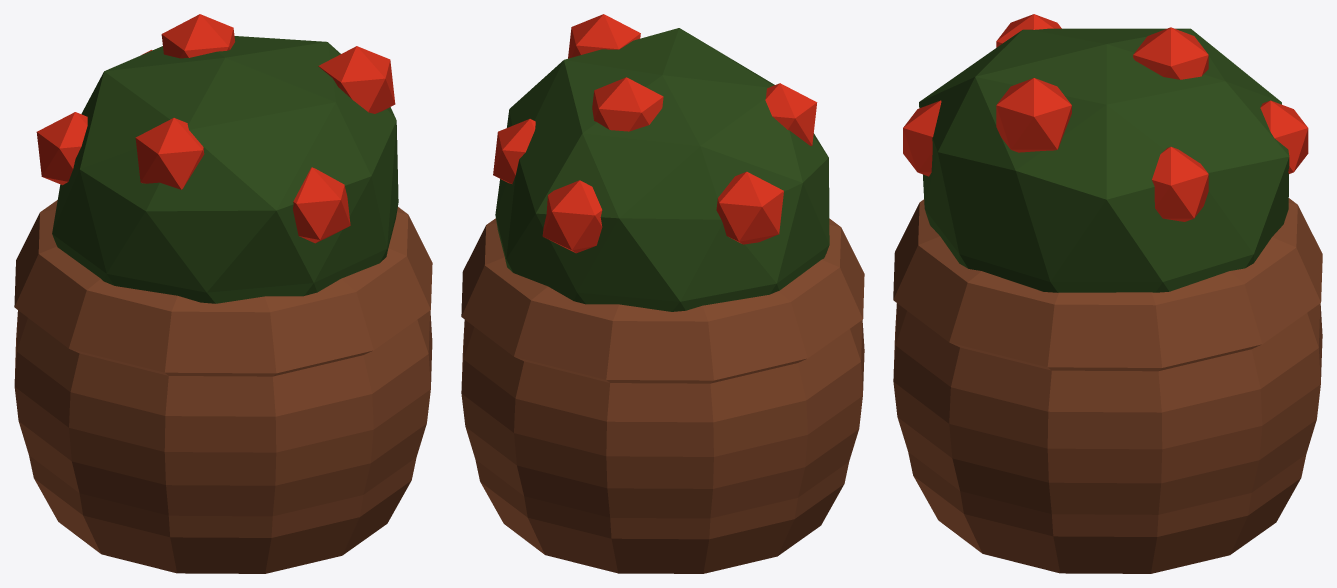
The model's file is Flower_pot.glb.
The picture shows the model from 3 angles, left to right: view 1: azimuth 30°, elevation 25°; view 2: azimuth 150°, elevation 25°; view 3: azimuth 270°, elevation 25°; orthographic projection. The views are drawn at different scales.
Parts seen in each view (by area): view 1: Flower pot; view 2: Flower pot; view 3: Flower pot.
Boxes of the visible parts, x1=… form: Flower pot: x1=14, y1=14, x2=432, y2=573; Flower pot: x1=461, y1=14, x2=864, y2=573; Flower pot: x1=893, y1=14, x2=1322, y2=573.
Size of the model in its own units: 0.8011 by 0.9847 by 0.8011.
